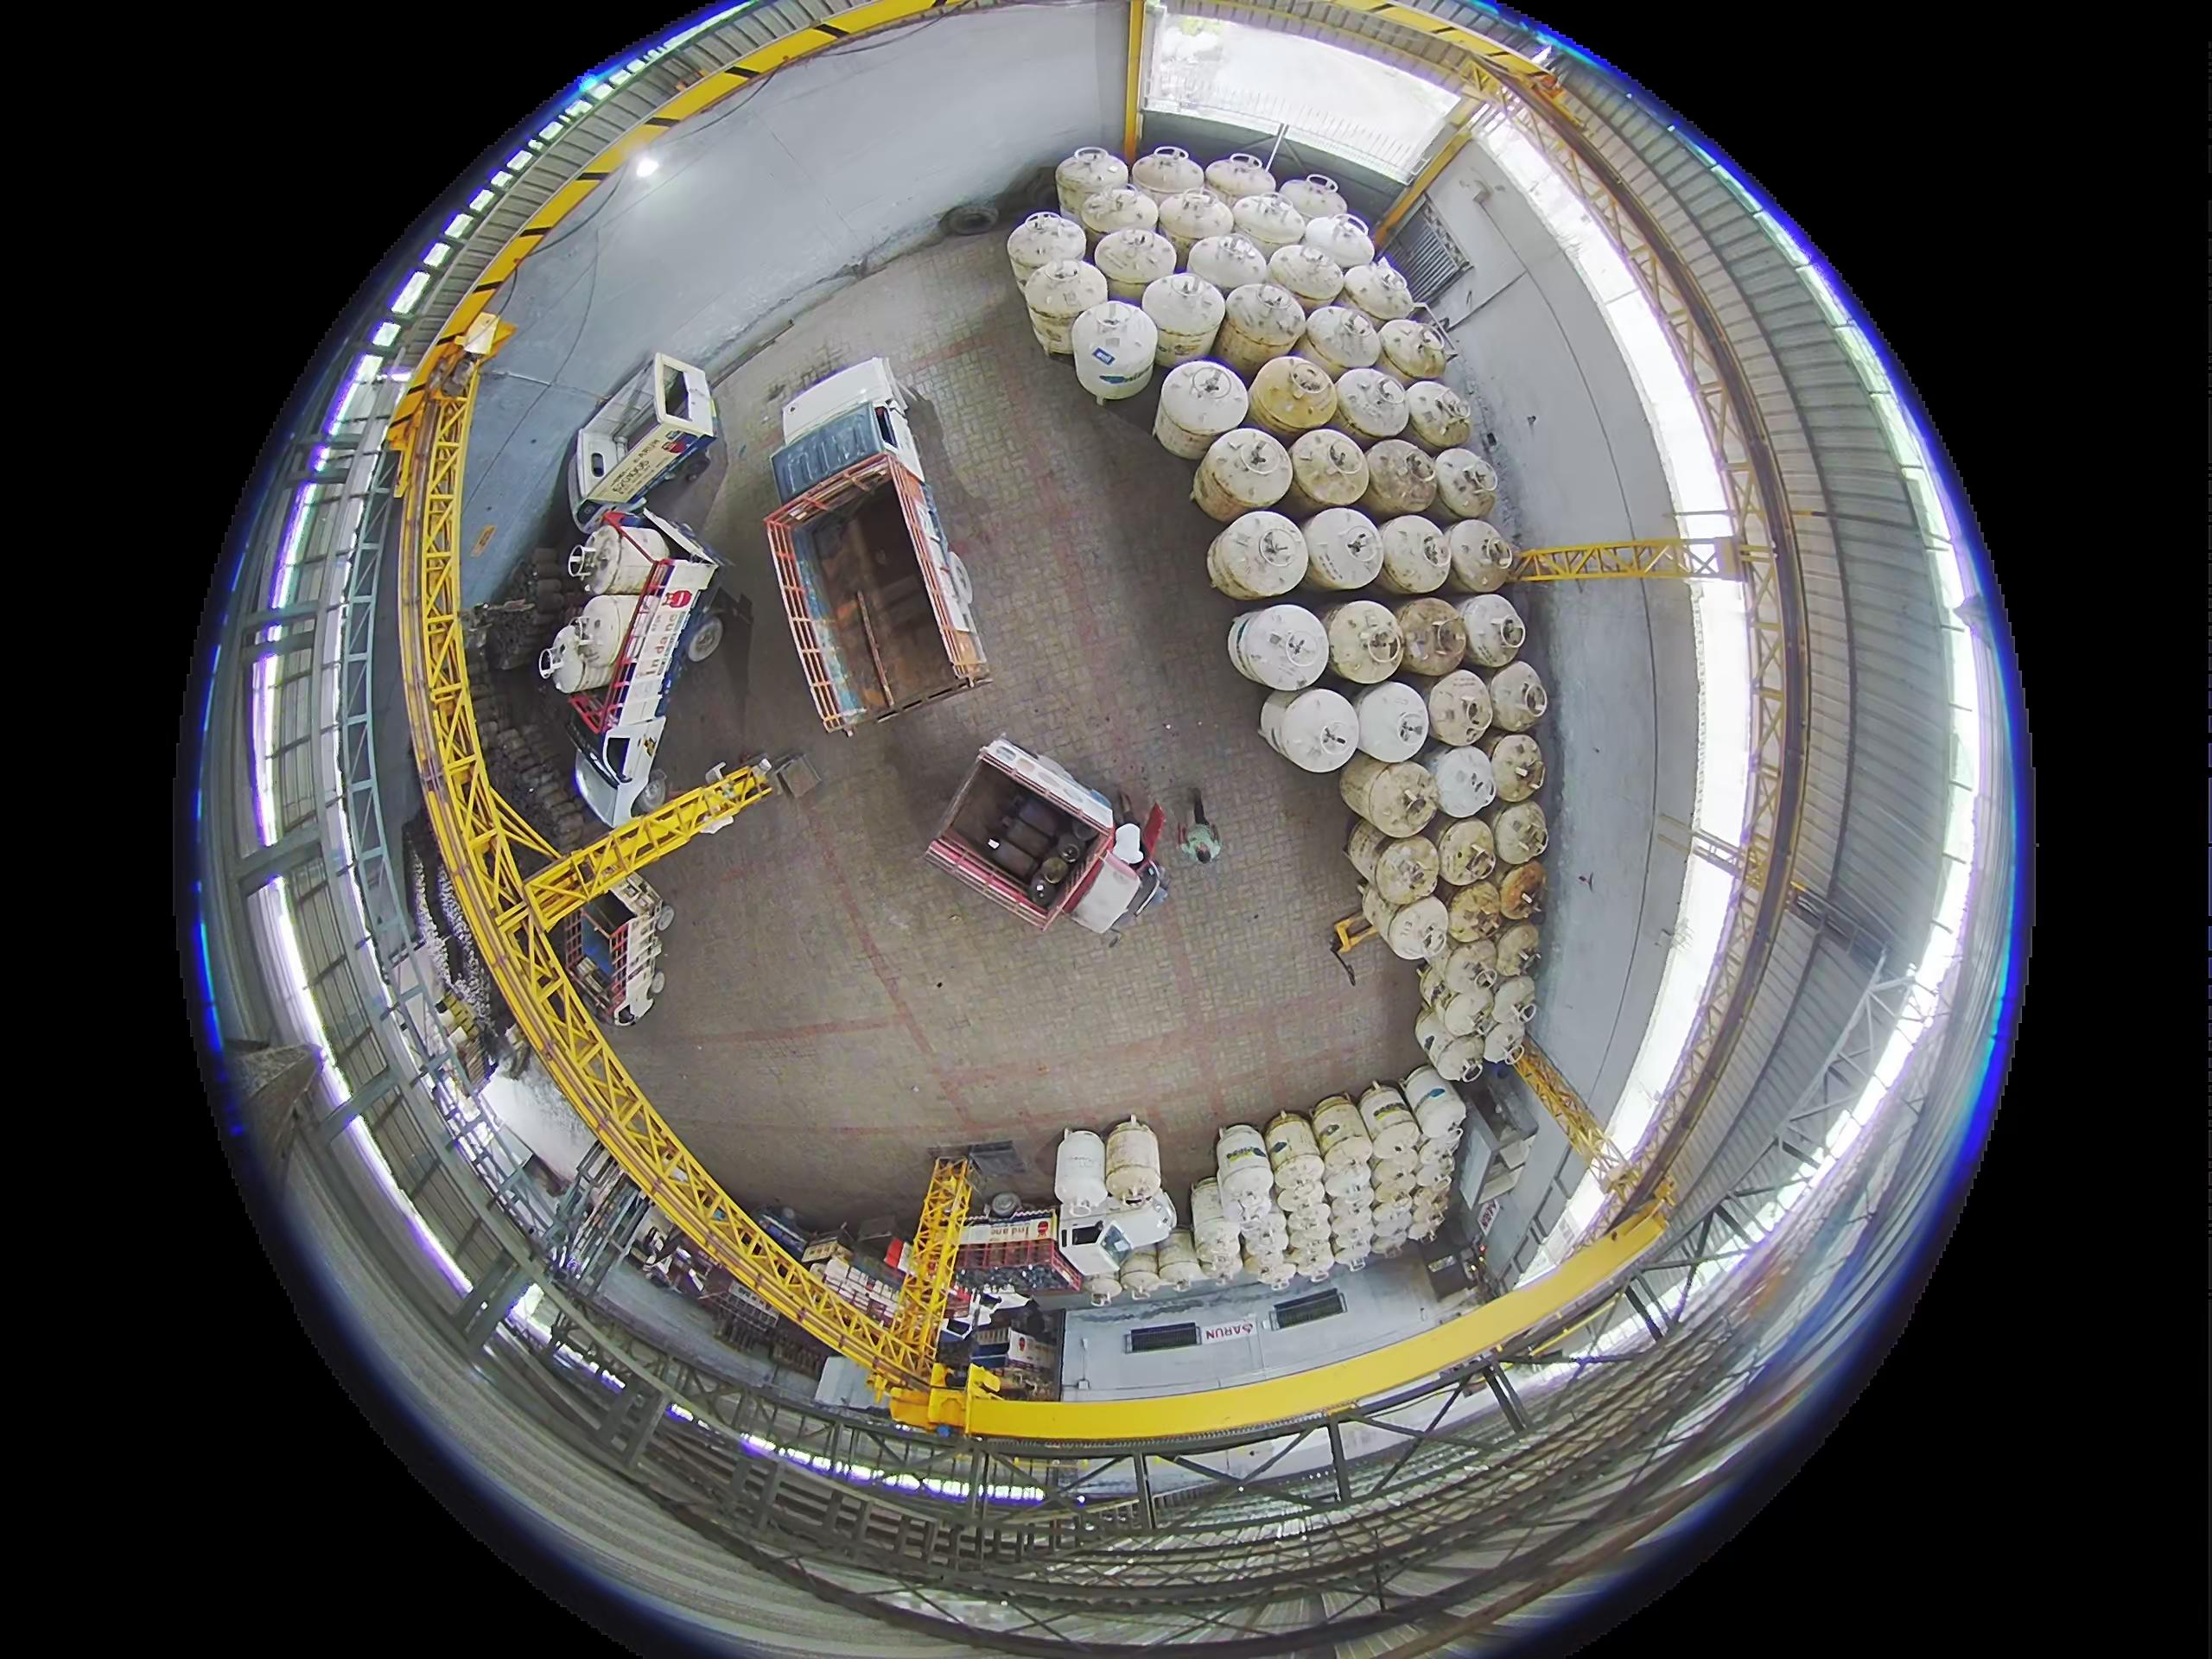cylinder: (1266, 694, 1395, 845), (1183, 439, 1310, 526), (1033, 117, 1144, 204), (1205, 511, 1310, 601), (1224, 626, 1339, 708), (996, 281, 1130, 349), (1165, 357, 1251, 455), (1087, 307, 1146, 415)
truck: (765, 359, 989, 732), (536, 505, 737, 833), (928, 737, 1163, 943), (564, 349, 723, 544), (768, 355, 927, 512), (561, 877, 676, 1032)
